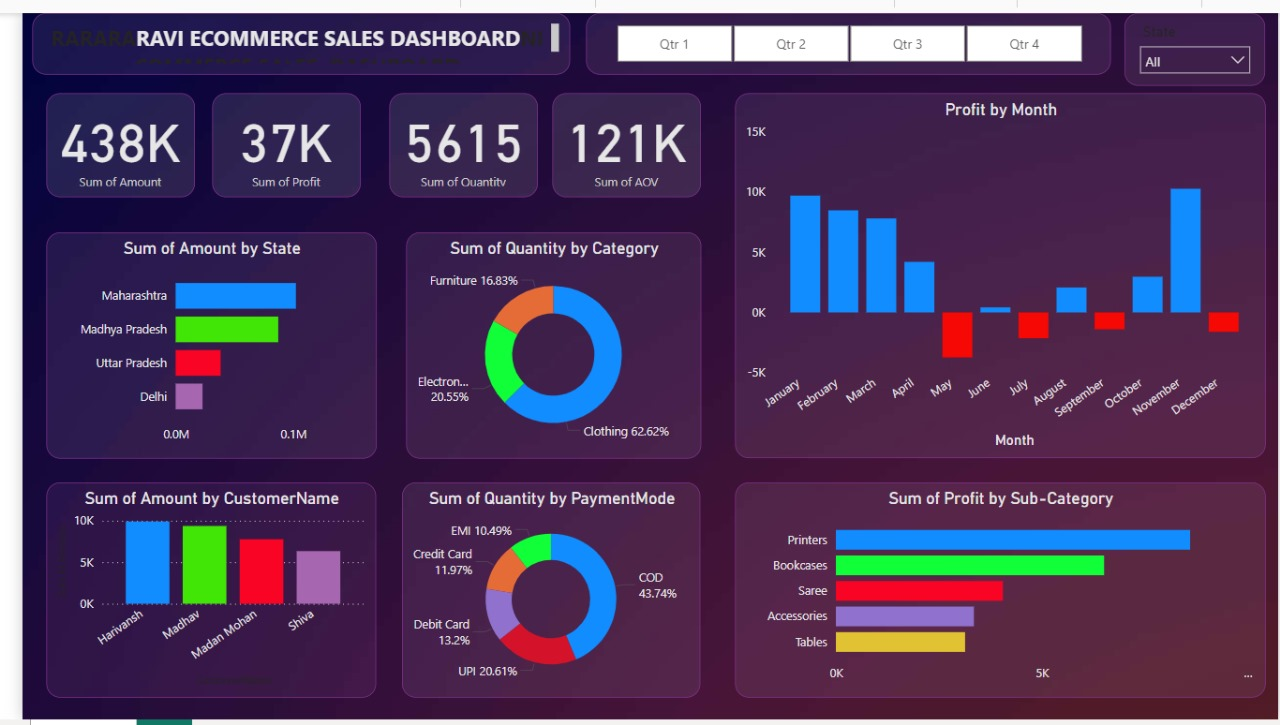

What the dashboard file says about the page in this screenshot:
{"tool":"powerbi","page":{"name":"Page 1","canvas":[1280,720],"ordinal":0},"visuals":[{"type":"textbox","box":[9.4,0,548,62.4],"z":0},{"type":"columnChart","title":"Profit by Month","fields":{"Y":["Details.Profit"],"Category":["Orders.Order Date.Variation.Date Hierarchy.Month"]},"box":[725.7,81.3,540.5,372.3],"z":1000},{"type":"barChart","fields":{"Category":["Details.Sub-Category"],"Y":["Details.Profit"]},"box":[725.7,478.1,540.5,219.2],"z":2000},{"type":"donutChart","fields":{"Y":["Details.Quantity"],"Category":["Details.PaymentMode"]},"box":[387.4,478.1,304.3,219.2],"z":3000},{"type":"donutChart","fields":{"Category":["Details.Category"],"Y":["Details.Quantity"]},"box":[391.2,223,300.5,230.6],"z":4000},{"type":"card","fields":{"Values":["Details.Amount"]},"box":[24.6,81.3,151.2,105.8],"z":5000},{"type":"card","fields":{"Values":["Details.Profit"]},"box":[192.8,81.3,151.2,105.8],"z":6000},{"type":"card","fields":{"Values":["Details.Quantity"]},"box":[374.2,81.3,151.2,105.8],"z":7000},{"type":"card","fields":{"Values":["Details.AOV"]},"box":[540.5,81.3,151.2,105.8],"z":8000},{"type":"barChart","fields":{"Category":["Orders.State"],"Y":["Details.Amount"]},"box":[24.6,223,336.4,230.6],"z":9000},{"type":"columnChart","fields":{"Category":["Orders.CustomerName"],"Y":["Details.Amount"]},"box":[25,478,336,219],"z":10000},{"type":"slicer","fields":{"Values":["Orders.Order Date.Variation.Date Hierarchy.Quarter"]},"box":[574.5,0,534.8,62.4],"z":11000},{"type":"slicer","fields":{"Values":["Orders.State"]},"box":[1122.5,0,143.6,73.7],"z":12000}]}

Visuals, with their boxes in screenshot pixels (x1, y1, x2, y2), scaled from the page's 1280x720 canvas onto the 1280x725 screenshot:
textbox: 9:0:557:63
"Profit by Month" columnChart: 726:82:1266:457
barChart - Details.Sub-Category x Details.Profit: 726:481:1266:702
donutChart - Details.Quantity x Details.PaymentMode: 387:481:692:702
donutChart - Details.Category x Details.Quantity: 391:225:692:457
card - Details.Amount: 25:82:176:188
card - Details.Profit: 193:82:344:188
card - Details.Quantity: 374:82:525:188
card - Details.AOV: 540:82:692:188
barChart - Orders.State x Details.Amount: 25:225:361:457
columnChart - Orders.CustomerName x Details.Amount: 25:481:361:702
slicer - Orders.Order Date.Variation.Date Hierarchy.Quarter: 574:0:1109:63
slicer - Orders.State: 1122:0:1266:74
